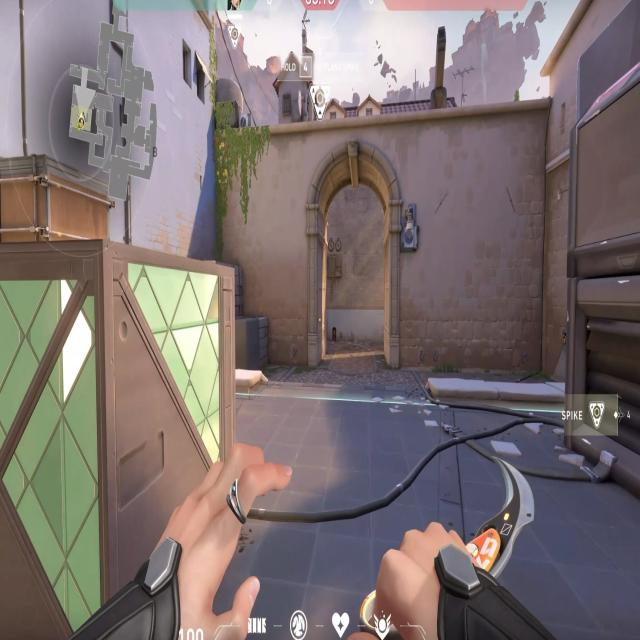A_Site_Box: (0, 257, 235, 621)
